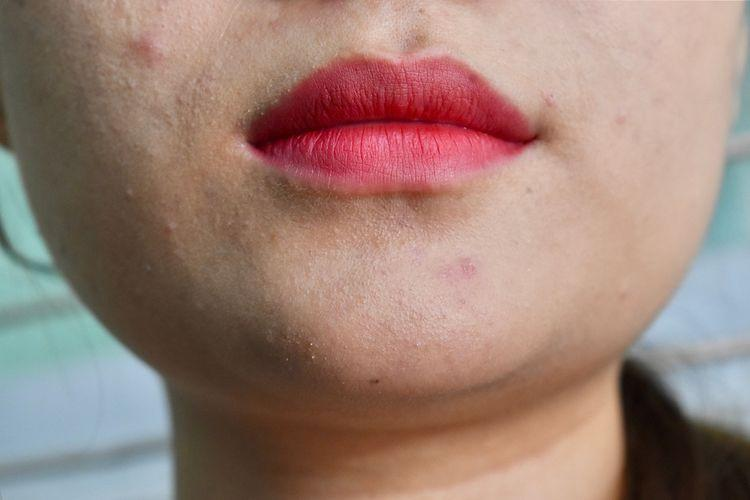Acne: (88, 5, 234, 324), (336, 229, 516, 377), (539, 70, 677, 155)
